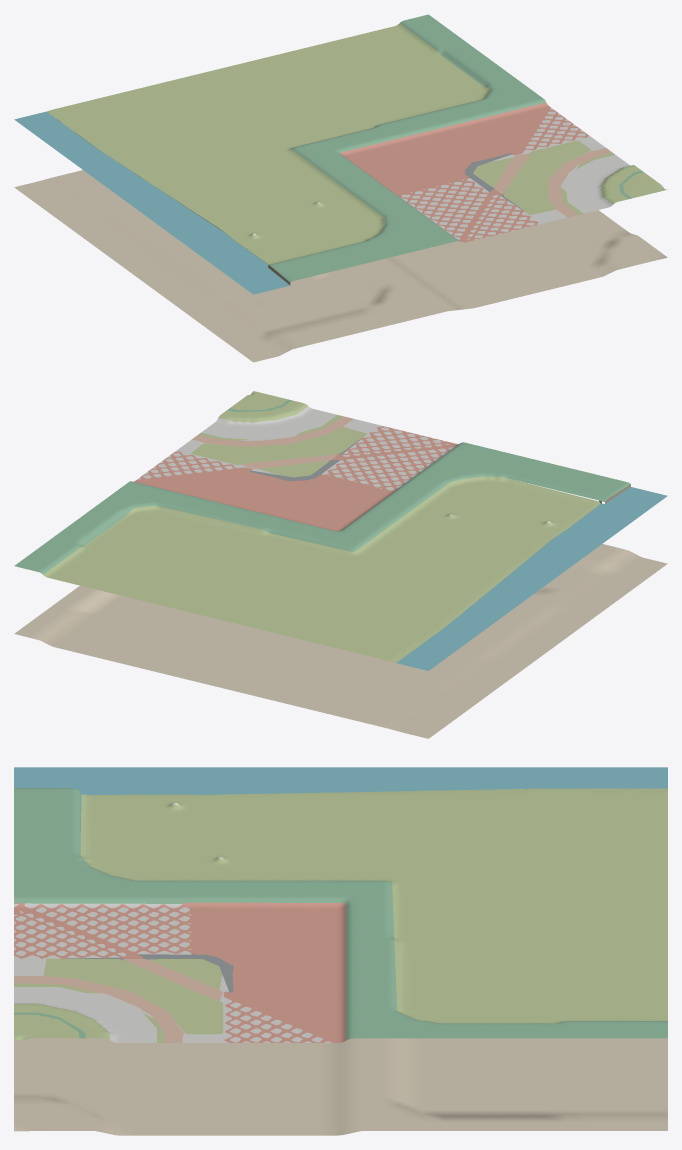
3 renders of one model, top to bottom at view 1: azimuth 30°, elevation 25°; view 2: azimuth 150°, elevation 25°; view 3: azimuth 270°, elevation 25°, orthographic. The views are drawn at different scales.
Parts seen in each view (by area): view 1: s_-12_-1__grass, s_-12_-1__soil, s_-12_-1__green_court, s_-12_-1__red_court, s_-12_-1__water, s_-12_-1__stone_paving, s_-12_-1__brick_paving; view 2: s_-12_-1__grass, s_-12_-1__soil, s_-12_-1__green_court, s_-12_-1__red_court, s_-12_-1__water, s_-12_-1__stone_paving, s_-12_-1__brick_paving; view 3: s_-12_-1__grass, s_-12_-1__soil, s_-12_-1__green_court, s_-12_-1__red_court, s_-12_-1__water, s_-12_-1__stone_paving, s_-12_-1__brick_paving, s_-12_-1__asphalt.
Part boxes in pixels (bbox=[...]): s_-12_-1__grass: bbox=[46, 23, 667, 264]; s_-12_-1__soil: bbox=[14, 170, 667, 362]; s_-12_-1__green_court: bbox=[269, 14, 643, 282]; s_-12_-1__red_court: bbox=[340, 102, 588, 242]; s_-12_-1__water: bbox=[14, 111, 289, 294]; s_-12_-1__stone_paving: bbox=[400, 107, 630, 242]; s_-12_-1__brick_paving: bbox=[494, 148, 612, 217]; s_-12_-1__grass: bbox=[43, 391, 599, 662]; s_-12_-1__soil: bbox=[14, 514, 667, 738]; s_-12_-1__green_court: bbox=[14, 399, 630, 574]; s_-12_-1__red_court: bbox=[133, 426, 457, 531]; s_-12_-1__water: bbox=[396, 487, 667, 670]; s_-12_-1__stone_paving: bbox=[137, 406, 458, 490]; s_-12_-1__brick_paving: bbox=[192, 416, 353, 468]; s_-12_-1__grass: bbox=[14, 788, 667, 1042]; s_-12_-1__soil: bbox=[14, 1038, 667, 1135]; s_-12_-1__green_court: bbox=[14, 788, 667, 1040]; s_-12_-1__red_court: bbox=[14, 902, 345, 1042]; s_-12_-1__water: bbox=[14, 767, 667, 852]; s_-12_-1__stone_paving: bbox=[14, 903, 332, 1042]; s_-12_-1__brick_paving: bbox=[14, 959, 222, 1042]; s_-12_-1__asphalt: bbox=[65, 953, 233, 992].
Size of the model in its own units: 128 by 21.14 by 128.
